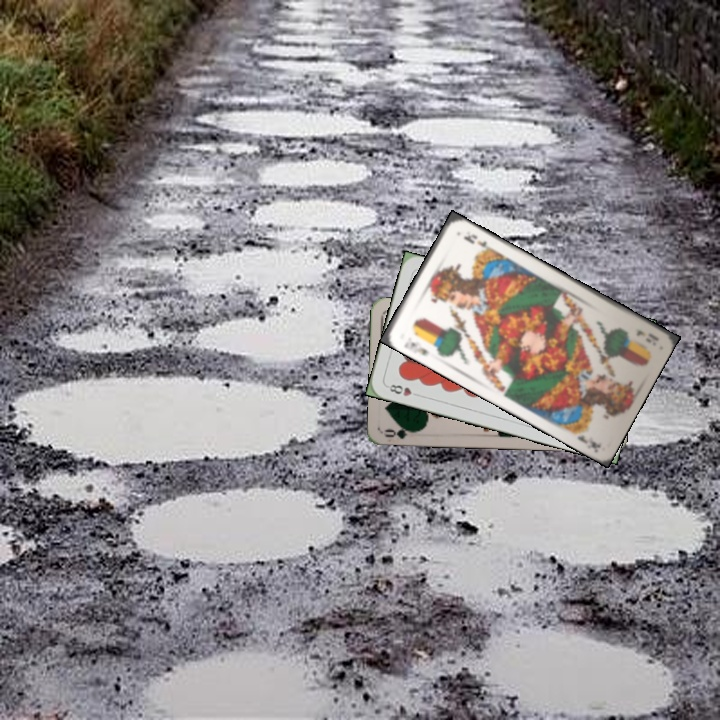EK: (400, 338, 432, 358), (632, 326, 661, 343)
GO: (382, 422, 422, 441)
H8: (383, 380, 423, 399)
